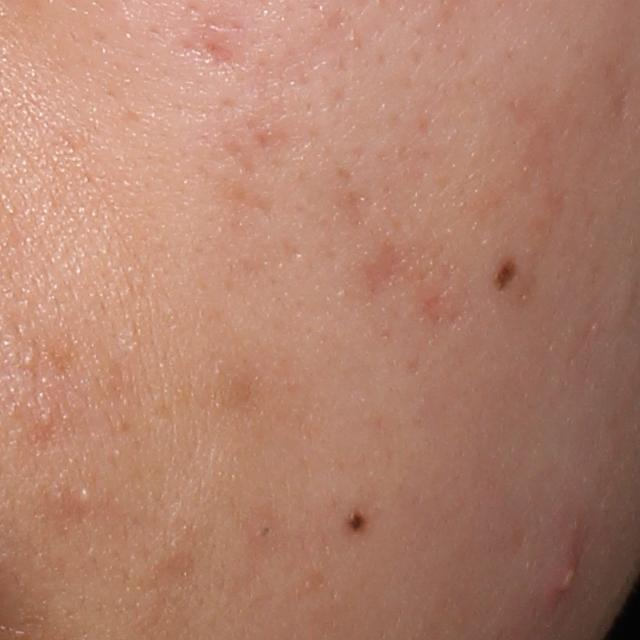atrophic_scar: (368, 248, 424, 292), (195, 37, 242, 75)
comedo: (250, 522, 272, 543)
nevus: (496, 260, 515, 290)
